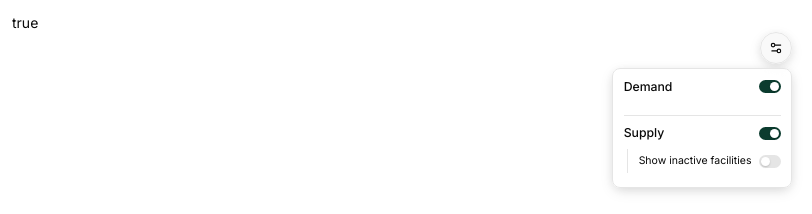
Scenario: MapLayersPanel › tells the map to hide and show facilities with the switch
The width and height of the screenshot is (812, 214).
Expected: the text "true" is shown, [12,14,38,31]
Click the switch named "Facilities".
click(770, 133)  # box [758,126,780,140]
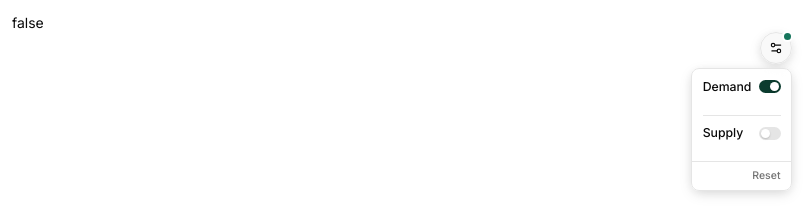
Now the text "false" is shown, box [12,14,44,31]
Click the switch named "Facilities".
click(770, 133)  # box [758,126,780,140]
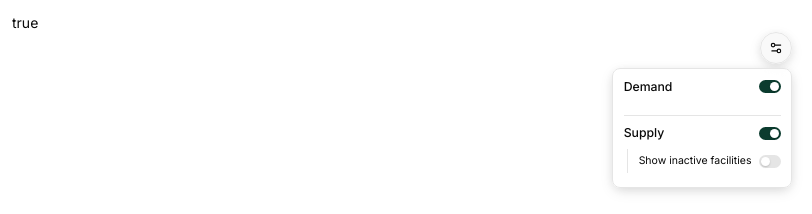
Now the text "true" is shown, box [12,14,38,31]
